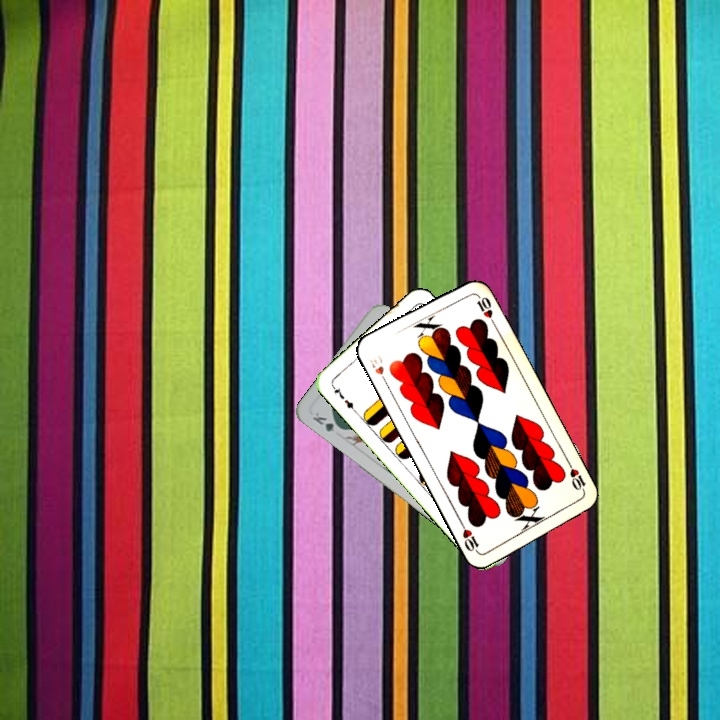E7: (328, 381, 359, 415)
GK: (308, 408, 346, 435)
H10: (365, 349, 390, 387), (564, 458, 588, 496)
